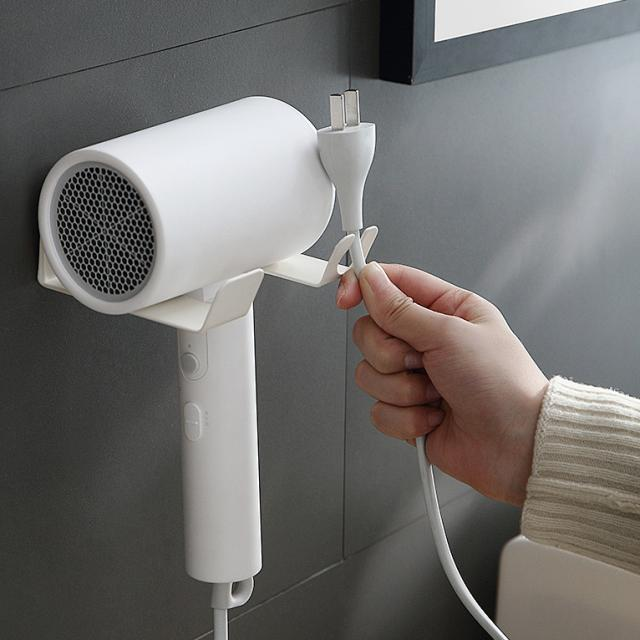dryer: (18, 67, 370, 609)
